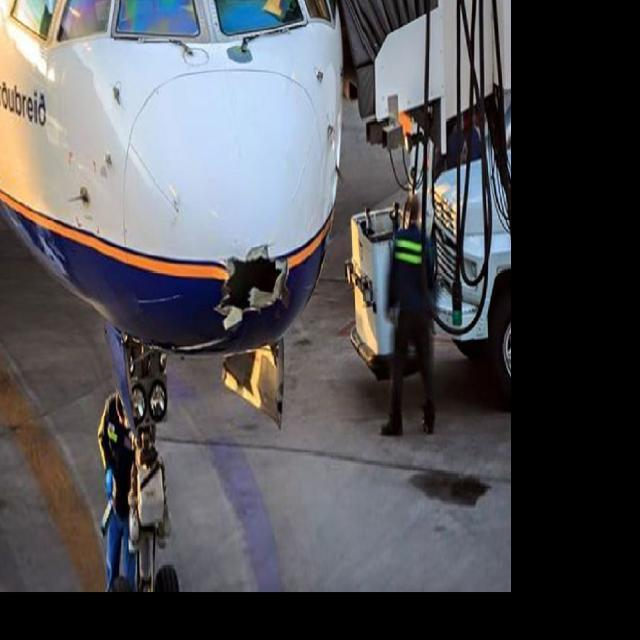crack: (214, 240, 294, 341)
